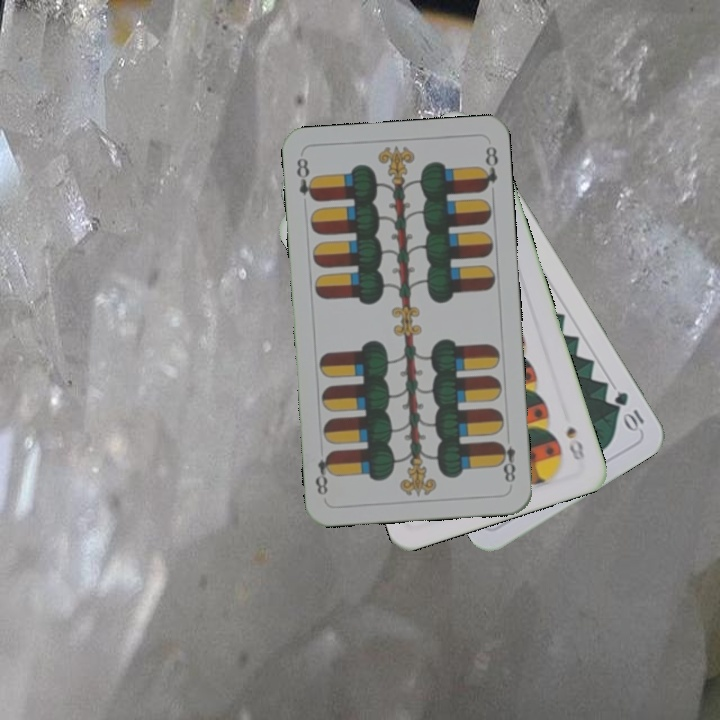E8: (292, 154, 319, 204), (494, 438, 518, 485)
G10: (610, 387, 647, 434)
S8: (562, 422, 587, 463)
